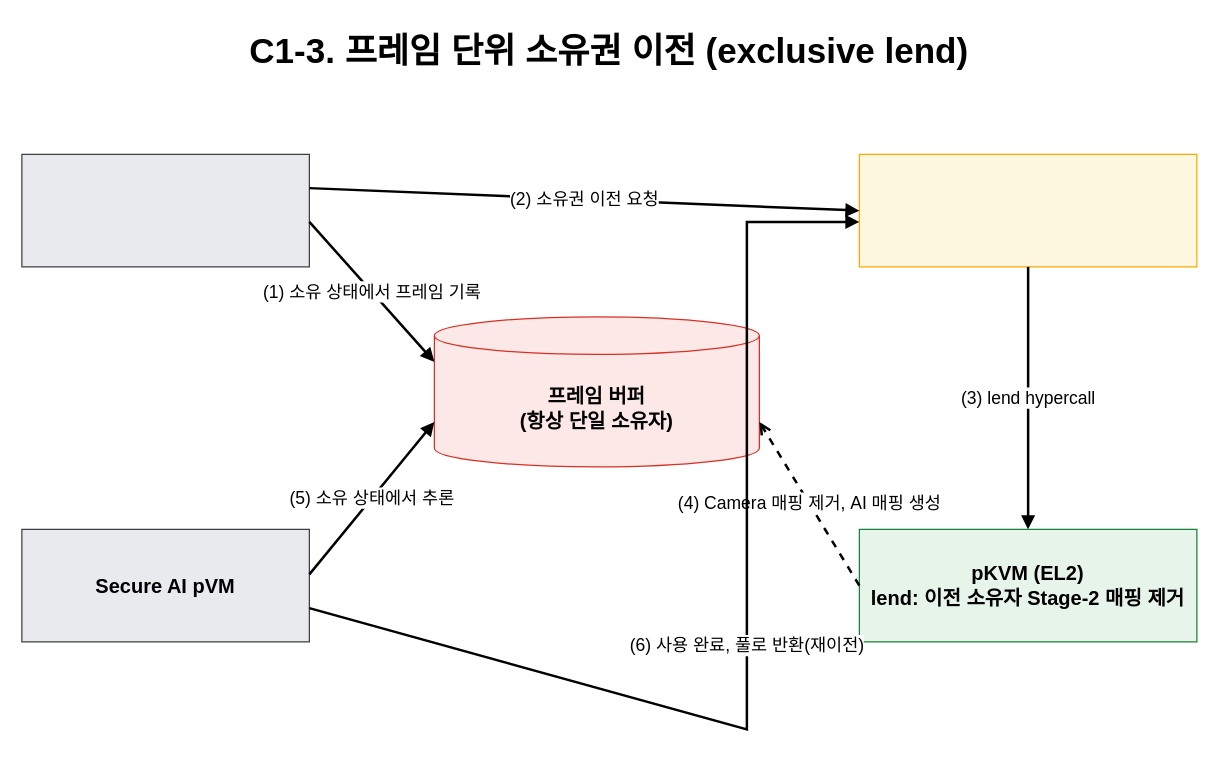
Some shapes in this 1219 by 761 pixel diagram are drawn without their labels. Here are the shapes that lost their labels. From the top down, the centre of each, then its label:
pixel 165 210: Secure Camera pVM
pixel 1027 210: Framework 커널 드라이버 (소유권 이전 요청 집행)
